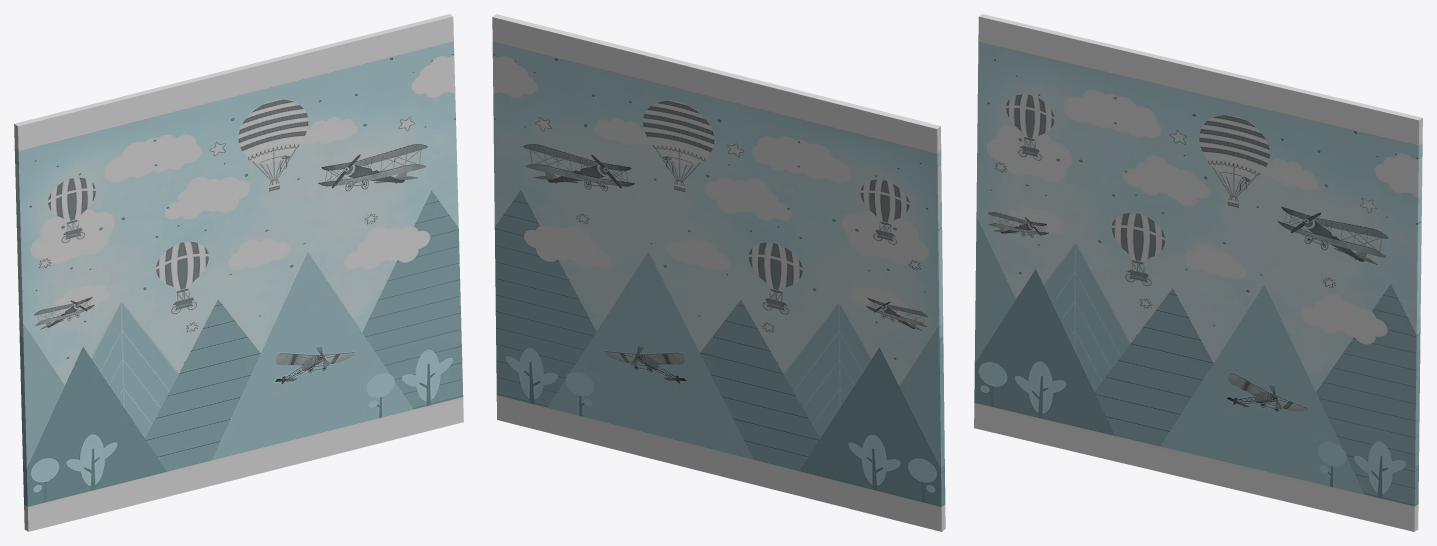
3 views of the same model, side by side, from view 1: azimuth 30°, elevation 25°; view 2: azimuth 150°, elevation 25°; view 3: azimuth 330°, elevation 25° (orthographic). The views are drawn at different scales.
Parts seen in each view (by area): view 1: Mesh_0.007; view 2: Mesh_0.007; view 3: Mesh_0.007.
Part boxes in pixels (box(x1,y1,x2,y2)): Mesh_0.007: box(14, 14, 463, 531); Mesh_0.007: box(492, 14, 945, 531); Mesh_0.007: box(974, 14, 1422, 531).
Size of the model in its own units: 2.29 by 2.02 by 0.1033.
1 material, 1 textured.
